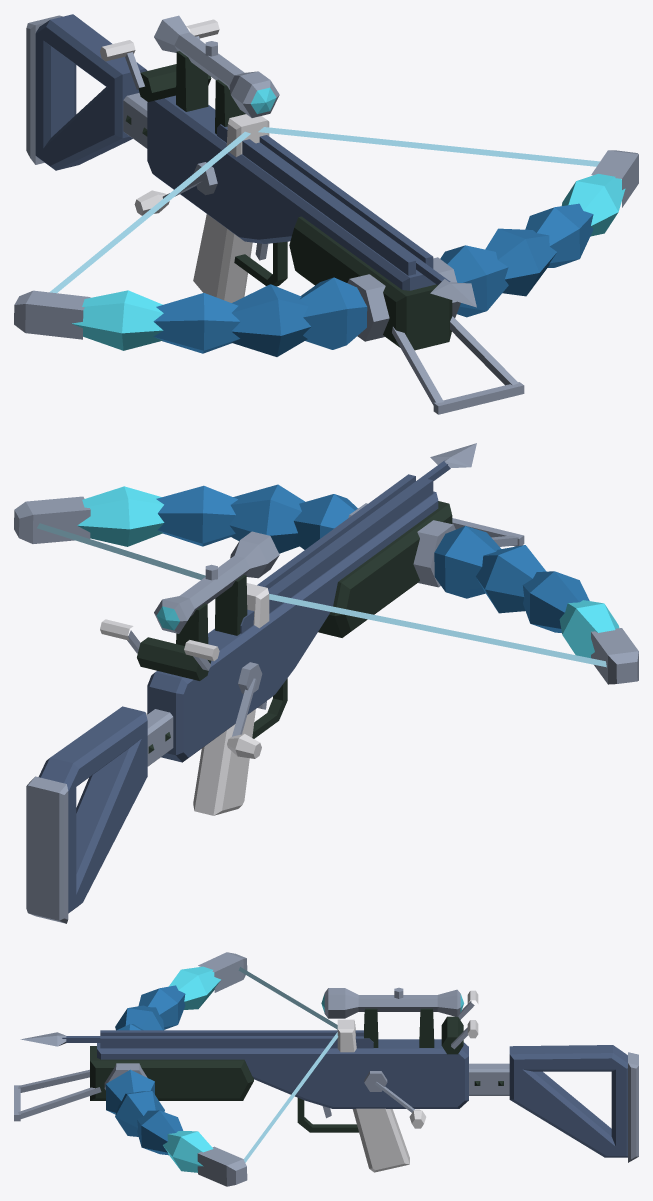
Rendered from crossbow-59750a.glb.
3 views of the same model, one above another, from view 1: azimuth 30°, elevation 25°; view 2: azimuth 150°, elevation 25°; view 3: azimuth 270°, elevation 25° (orthographic). The views are drawn at different scales.
Parts seen in each view (by area): view 1: crossbow-body-matte, crossbow-body-metal, crossbow-body-crystal, bolt-matte, bolt-metal, lever-metal; view 2: crossbow-body-matte, crossbow-body-metal, crossbow-body-crystal, bolt-matte, lever-metal, bolt-metal; view 3: crossbow-body-matte, crossbow-body-metal, crossbow-body-crystal, lever-metal, bolt-matte, bolt-metal.
Part boxes in pixels (x1,y1,x2,y2): crossbow-body-matte: [35, 14, 599, 302]; crossbow-body-metal: [14, 15, 638, 414]; crossbow-body-crystal: [71, 87, 625, 356]; bolt-matte: [256, 142, 450, 285]; bolt-metal: [430, 279, 476, 307]; lever-metal: [162, 162, 217, 198]; crossbow-body-matte: [37, 474, 606, 913]; crossbow-body-metal: [14, 496, 638, 923]; crossbow-body-crystal: [77, 484, 619, 658]; bolt-matte: [268, 460, 450, 592]; lever-metal: [232, 662, 262, 736]; bolt-metal: [430, 443, 476, 468]; crossbow-body-matte: [97, 967, 627, 1172]; crossbow-body-metal: [14, 952, 638, 1186]; crossbow-body-crystal: [105, 966, 463, 1172]; lever-metal: [364, 1071, 415, 1112]; bolt-matte: [62, 1036, 333, 1042]; bolt-metal: [20, 1032, 66, 1046].
Bounding box in the file's own units: 0.7558 × 0.2912 × 0.9189.
